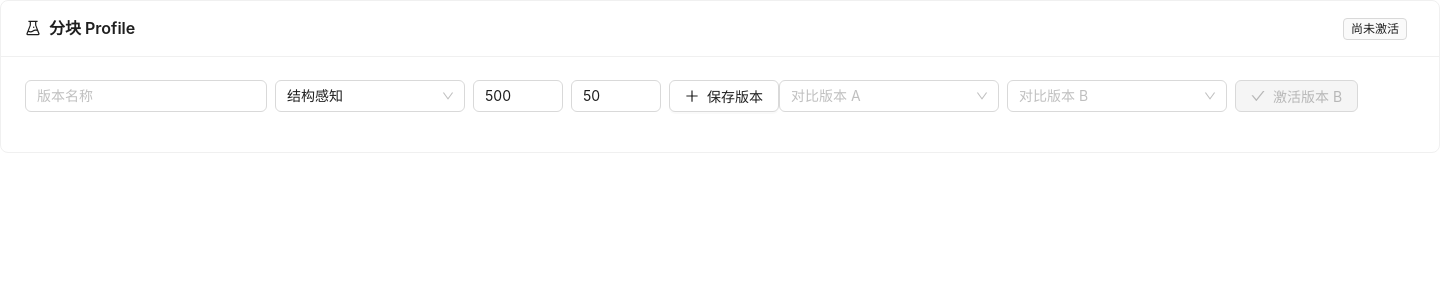
Test: ChunkProfilePanel › shows semantic similarity threshold only for semantic profiles
Press the mouse on the text "结构感知" at {"x": 370, "y": 96}, box [275,80,465,112]
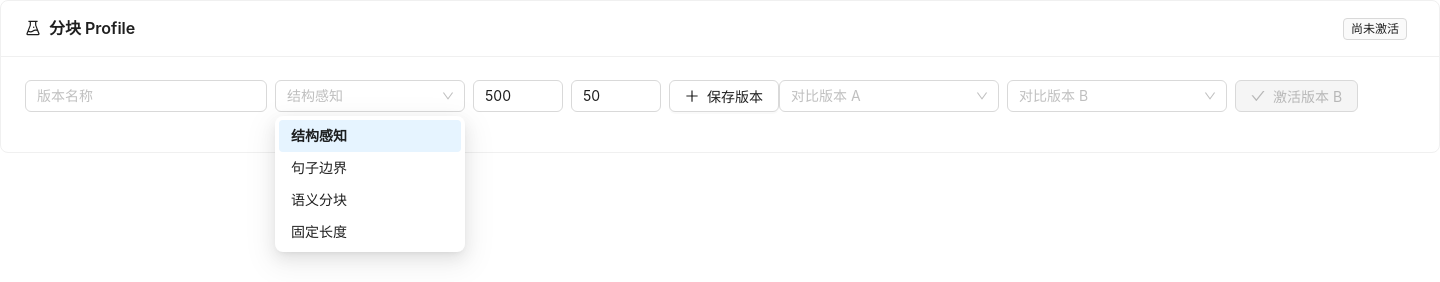
Click the text "语义分块" at {"x": 319, "y": 200}, box [291,191,347,208]
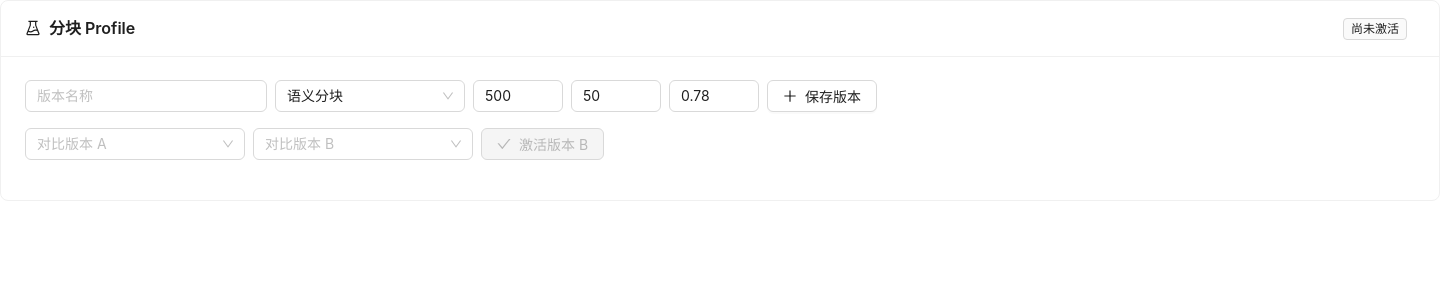
Check: the number field named "语义相似度阈值" holds "0.78", box [670,81,758,111]
